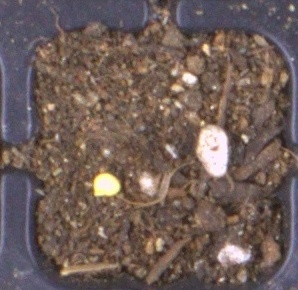chilli seed: (92, 173, 121, 197)
